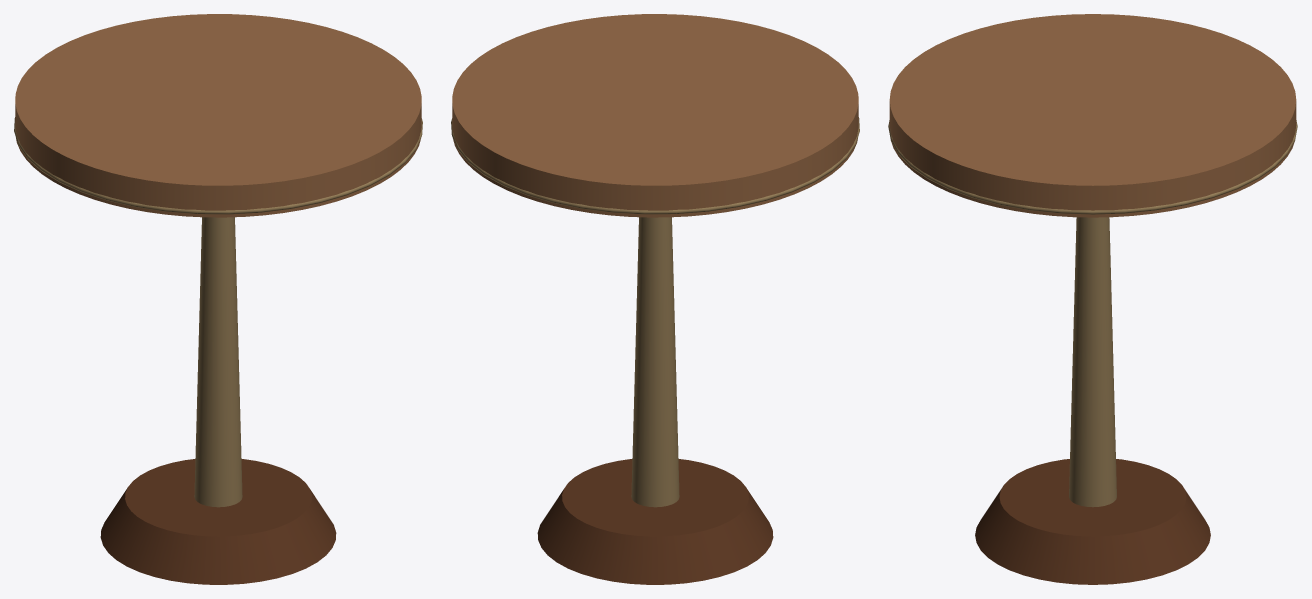
Rendered from lounge-lamp-table.glb.
3 views of the same model, side by side, from view 1: azimuth 30°, elevation 25°; view 2: azimuth 150°, elevation 25°; view 3: azimuth 270°, elevation 25° (orthographic).
Parts seen in each view (by area): view 1: part::lounge-lamp-table/round-honed-top-001, part::lounge-lamp-table/splayed-pedestal-foot-001, part::lounge-lamp-table/tapered-pedestal-001, part::lounge-lamp-table/brass-tabletop-reveal-001; view 2: part::lounge-lamp-table/round-honed-top-001, part::lounge-lamp-table/splayed-pedestal-foot-001, part::lounge-lamp-table/tapered-pedestal-001, part::lounge-lamp-table/brass-tabletop-reveal-001; view 3: part::lounge-lamp-table/round-honed-top-001, part::lounge-lamp-table/splayed-pedestal-foot-001, part::lounge-lamp-table/tapered-pedestal-001, part::lounge-lamp-table/brass-tabletop-reveal-001.
Part boxes in pixels (left/top/right/bottom): part::lounge-lamp-table/round-honed-top-001: left=15, top=14, right=421, bottom=217; part::lounge-lamp-table/splayed-pedestal-foot-001: left=100, top=459, right=336, bottom=584; part::lounge-lamp-table/tapered-pedestal-001: left=194, top=217, right=242, bottom=507; part::lounge-lamp-table/brass-tabletop-reveal-001: left=14, top=117, right=422, bottom=214; part::lounge-lamp-table/round-honed-top-001: left=452, top=14, right=858, bottom=217; part::lounge-lamp-table/splayed-pedestal-foot-001: left=537, top=459, right=773, bottom=584; part::lounge-lamp-table/tapered-pedestal-001: left=631, top=217, right=679, bottom=507; part::lounge-lamp-table/brass-tabletop-reveal-001: left=451, top=117, right=859, bottom=214; part::lounge-lamp-table/round-honed-top-001: left=889, top=14, right=1296, bottom=217; part::lounge-lamp-table/splayed-pedestal-foot-001: left=975, top=459, right=1210, bottom=584; part::lounge-lamp-table/tapered-pedestal-001: left=1069, top=217, right=1116, bottom=507; part::lounge-lamp-table/brass-tabletop-reveal-001: left=888, top=120, right=1297, bottom=214.
Size of the model in its own units: 0.584 by 0.685 by 0.584.
